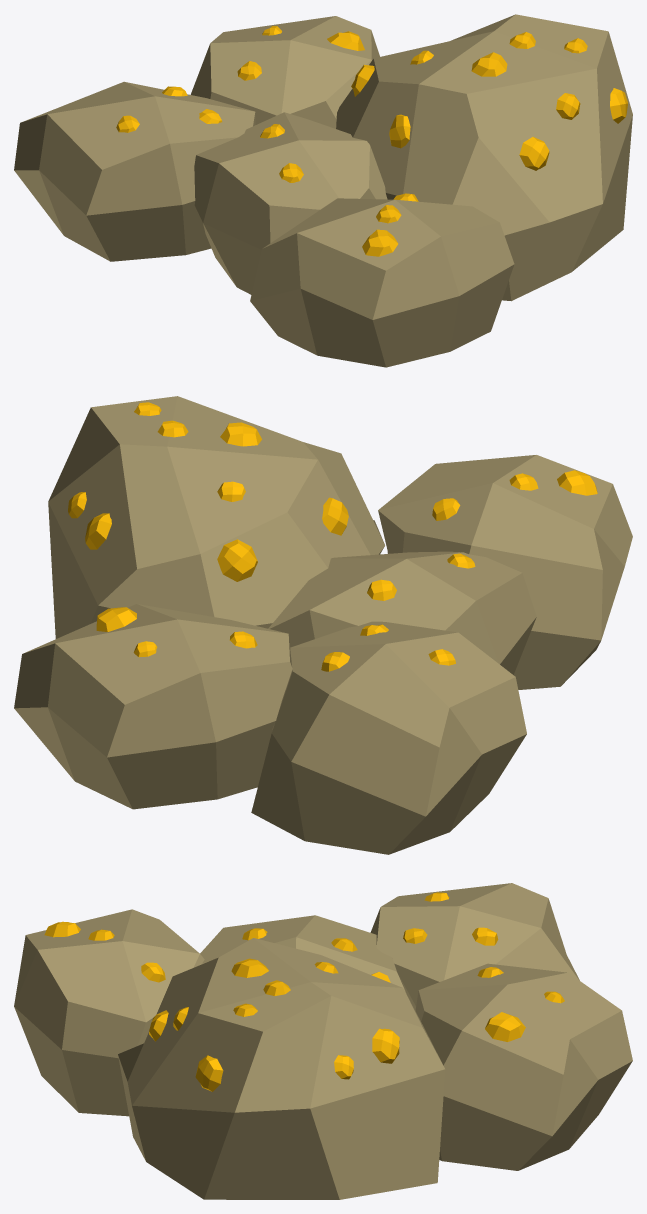
The model's file is desert_stone_gold_1.fbx.
3 views of the same model, one above another, from view 1: azimuth 30°, elevation 25°; view 2: azimuth 150°, elevation 25°; view 3: azimuth 270°, elevation 25° (orthographic). The views are drawn at different scales.
Visible parts, largest first — view 1: Cube, Cube.021, Cube.018, Cube.016, Cube.023; view 2: Cube, Cube.018, Cube.023, Cube.021, Cube.016; view 3: Cube, Cube.023, Cube.021, Cube.018, Cube.016.
Part boxes in pixels (left/top/right/bottom): Cube: left=336, top=14, right=632, bottom=301; Cube.021: left=250, top=193, right=514, bottom=367; Cube.018: left=14, top=81, right=255, bottom=261; Cube.016: left=194, top=112, right=387, bottom=294; Cube.023: left=190, top=16, right=379, bottom=128; Cube: left=48, top=396, right=384, bottom=638; Cube.018: left=251, top=621, right=526, bottom=854; Cube.023: left=14, top=604, right=292, bottom=809; Cube.021: left=378, top=455, right=632, bottom=689; Cube.016: left=268, top=551, right=536, bottom=674; Cube: left=118, top=938, right=445, bottom=1199; Cube.023: left=415, top=963, right=632, bottom=1170; Cube.021: left=14, top=909, right=204, bottom=1116; Cube.018: left=370, top=883, right=579, bottom=1008; Cube.016: left=200, top=915, right=415, bottom=1010.
Size of the model in its own units: 72.68 by 30.07 by 82.02.
